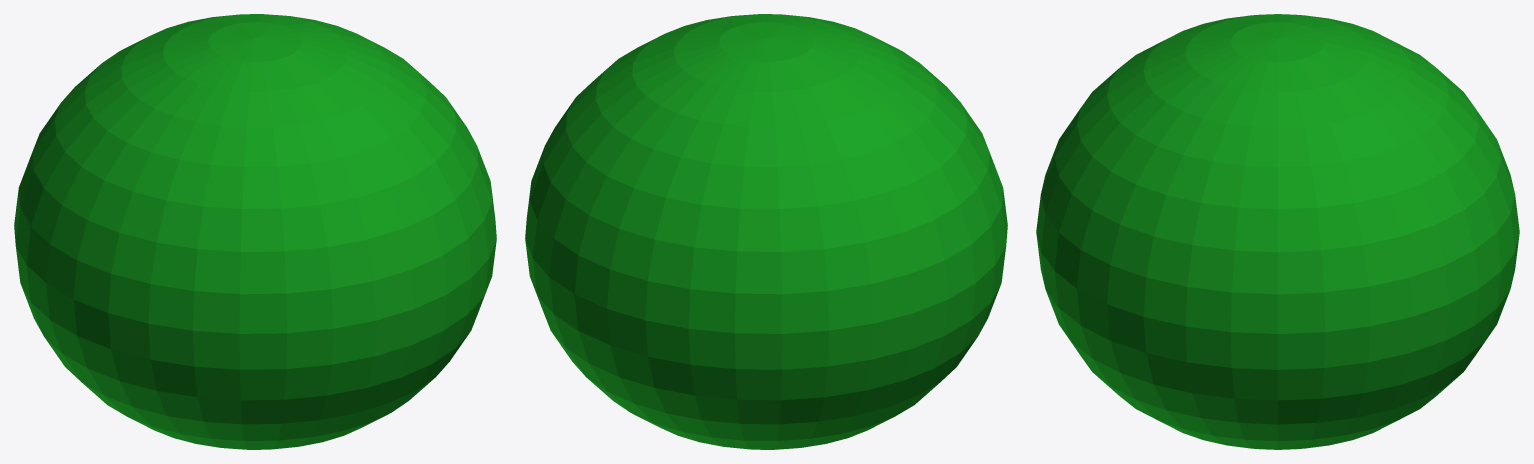
The model's file is marimo.fbx.
3 views of the same model, side by side, from view 1: azimuth 30°, elevation 25°; view 2: azimuth 150°, elevation 25°; view 3: azimuth 270°, elevation 25° (orthographic).
Visible parts, largest first — view 1: Sphere; view 2: Sphere; view 3: Sphere.
Part boxes in pixels (x1=…): Sphere: x1=14, y1=14, x2=496, y2=449; Sphere: x1=525, y1=14, x2=1007, y2=449; Sphere: x1=1036, y1=14, x2=1519, y2=449.
Size of the model in its own units: 200 by 177 by 200.
